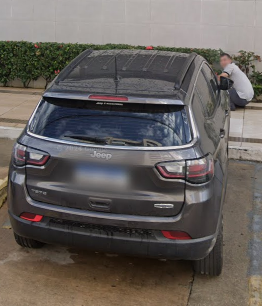car: (9, 46, 233, 280)
